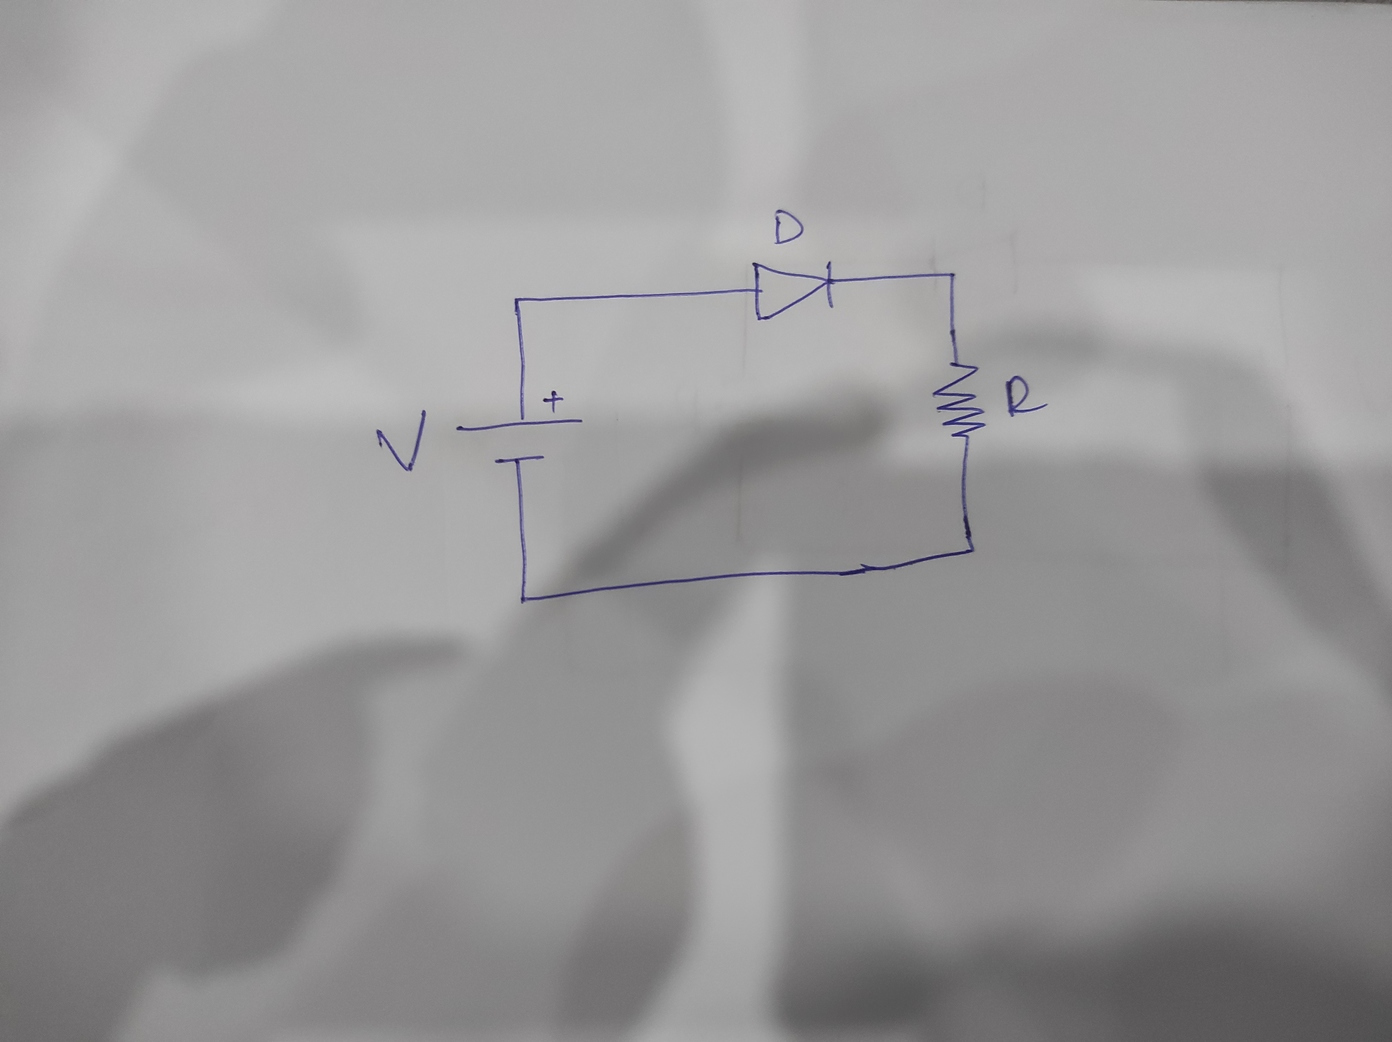diode: (750, 257, 837, 322)
junction: (939, 265, 963, 289), (514, 588, 535, 610), (960, 541, 982, 560), (508, 290, 529, 310)
resistor: (928, 356, 990, 443)
text: (374, 407, 430, 474), (1002, 372, 1049, 420), (769, 202, 807, 255)
voltage.dc: (454, 387, 585, 471)
